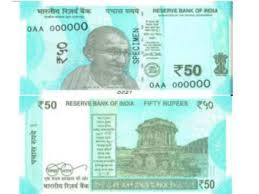fifty: (26, 18, 215, 79)
